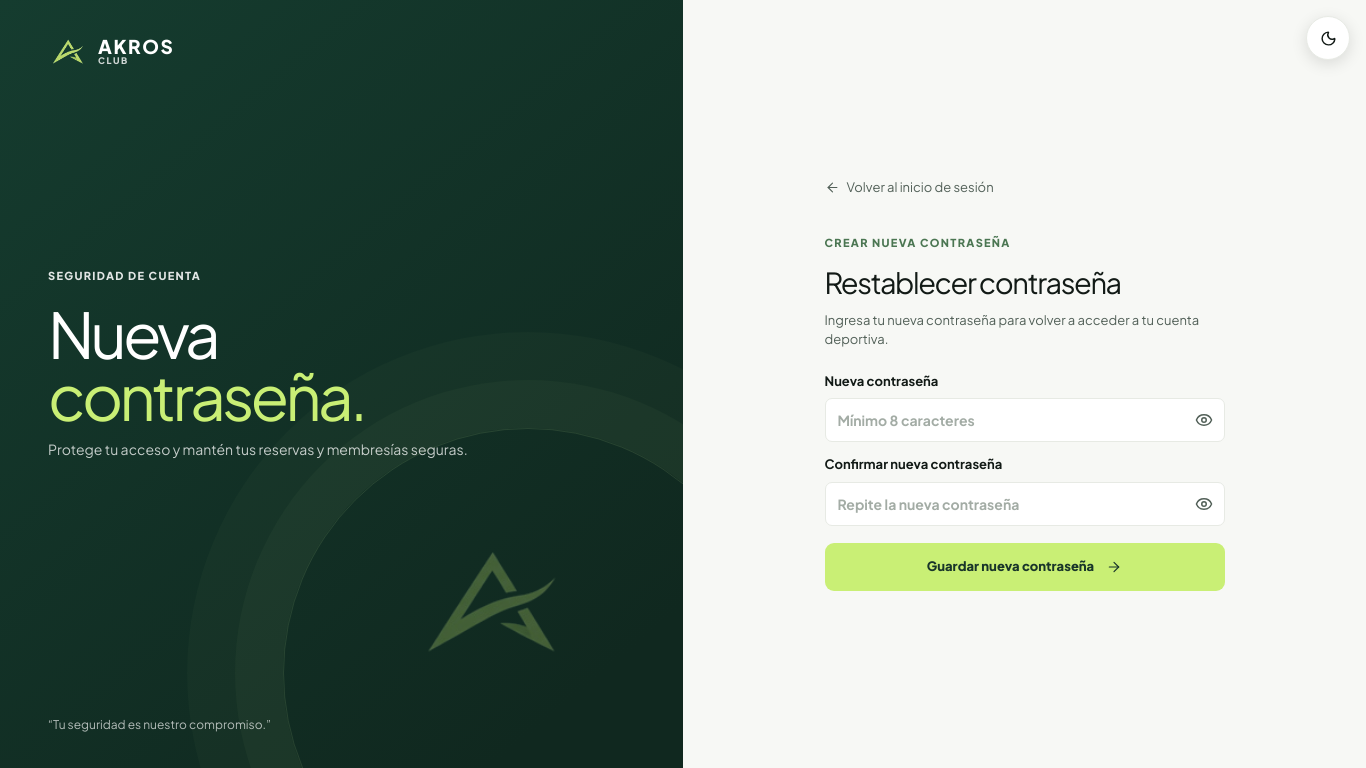
Test: TSK-QA-05 [Seguridad]: /reset-password activa tarjeta de contingencia al responder la API token expirado (>15 min)
# Ingresar credenciales válidas
Type "NuevaPassword2026*" into the password field with placeholder "Mínimo 8 caracteres" at (1024, 420), box x1=824 y1=398 x2=1224 y2=442
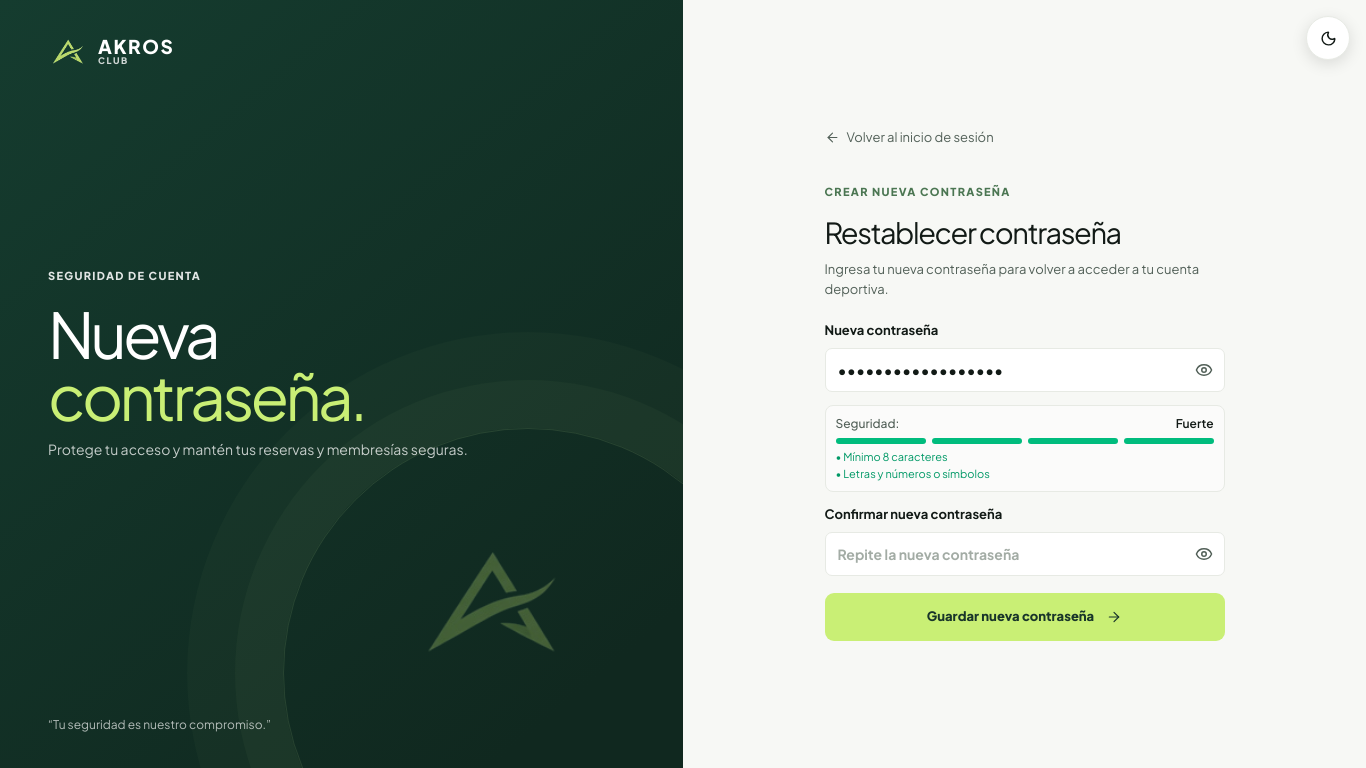
Type "NuevaPassword2026*" into the password field with placeholder "Repite la nueva contraseña" at (1024, 554), box x1=824 y1=532 x2=1224 y2=576
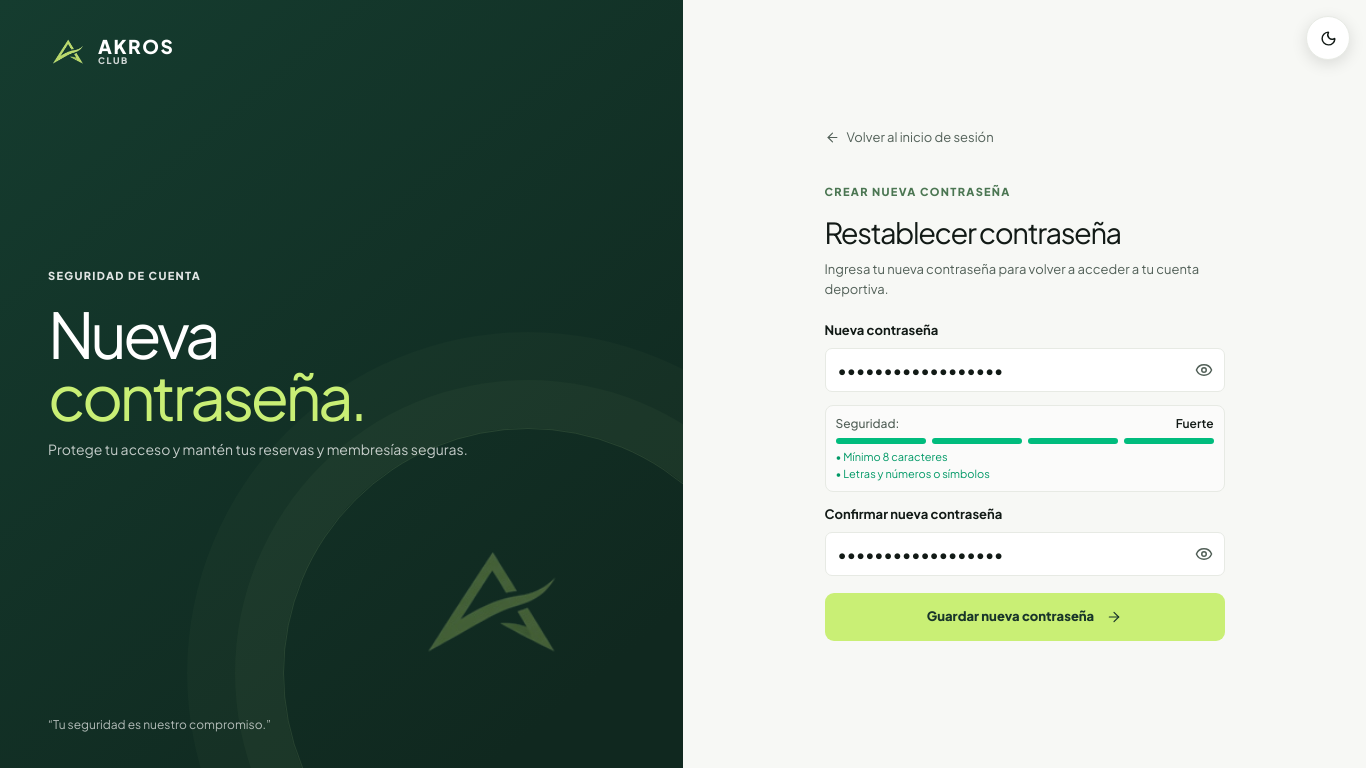
Click the button "Guardar nueva contraseña" at (1024, 617), box x1=824 y1=593 x2=1224 y2=641
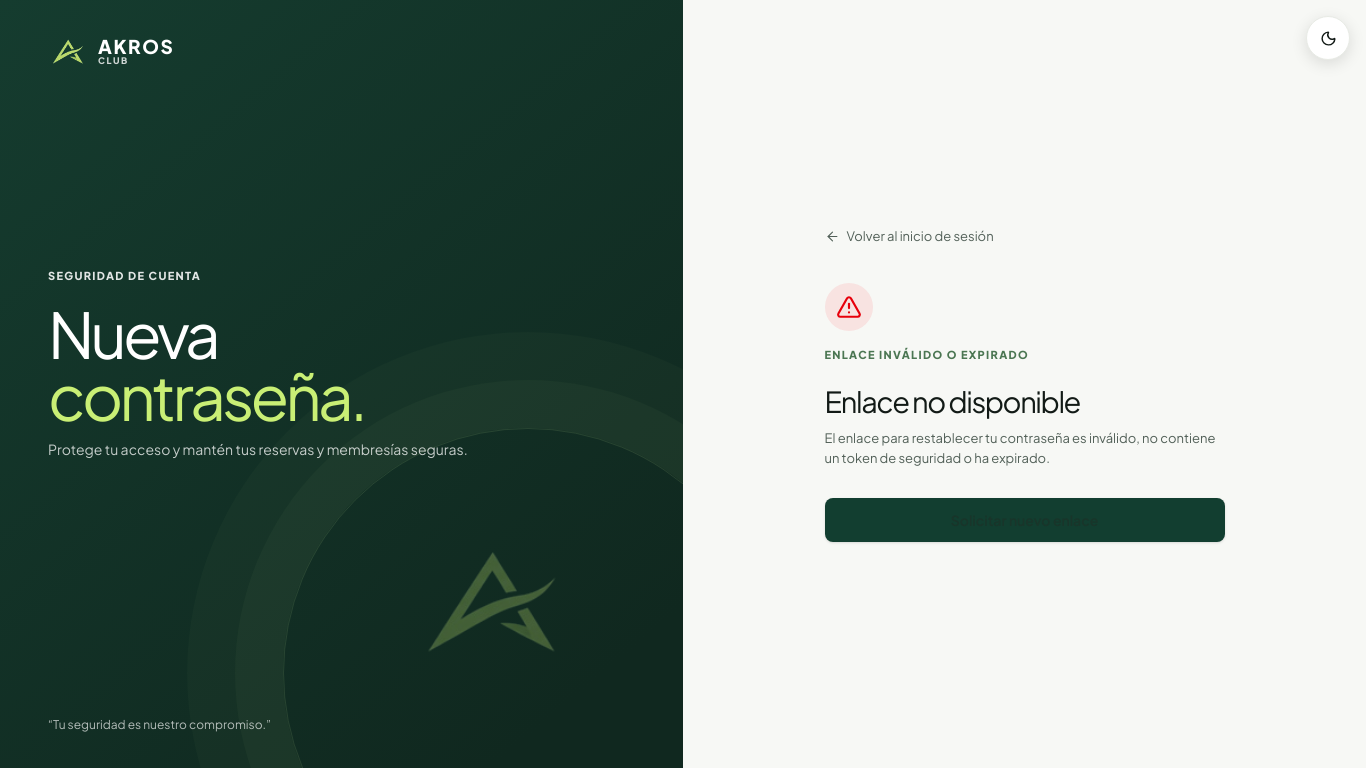
Check: the element with test id "invalid-token-alert" is shown, box x1=824 y1=283 x2=1224 y2=542
Check: the link to "/forgot-password" reads "Solicitar nuevo enlace", box x1=824 y1=498 x2=1224 y2=542
